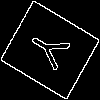Y: (25, 25, 79, 77)
